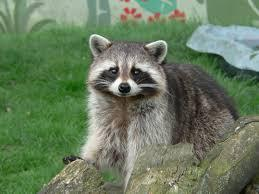raccoon: (55, 15, 254, 189)
